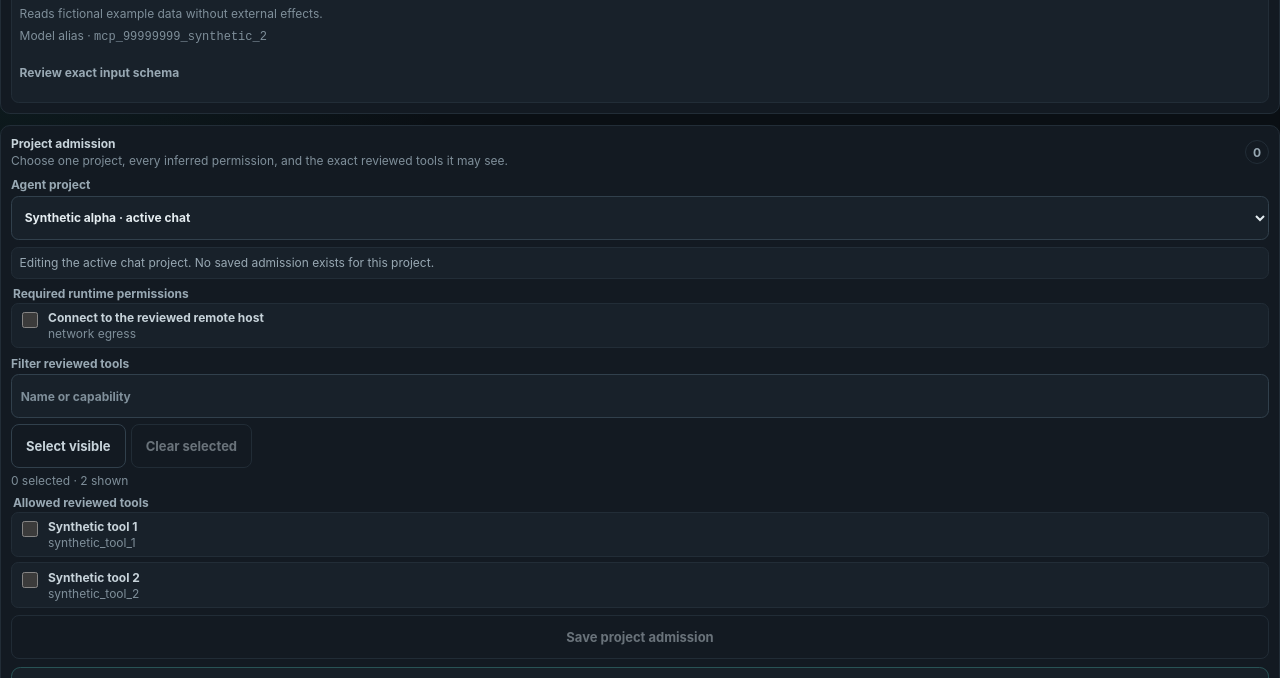
Test case: AgentMcpManagedPlanView project authority › filters large tool sets and supports explicit visible selection and clearing
(page scrolled)
Type "tool 2" into the search field labelled "Filter reviewed tools" at (640, 396), box [11, 374, 1269, 418]
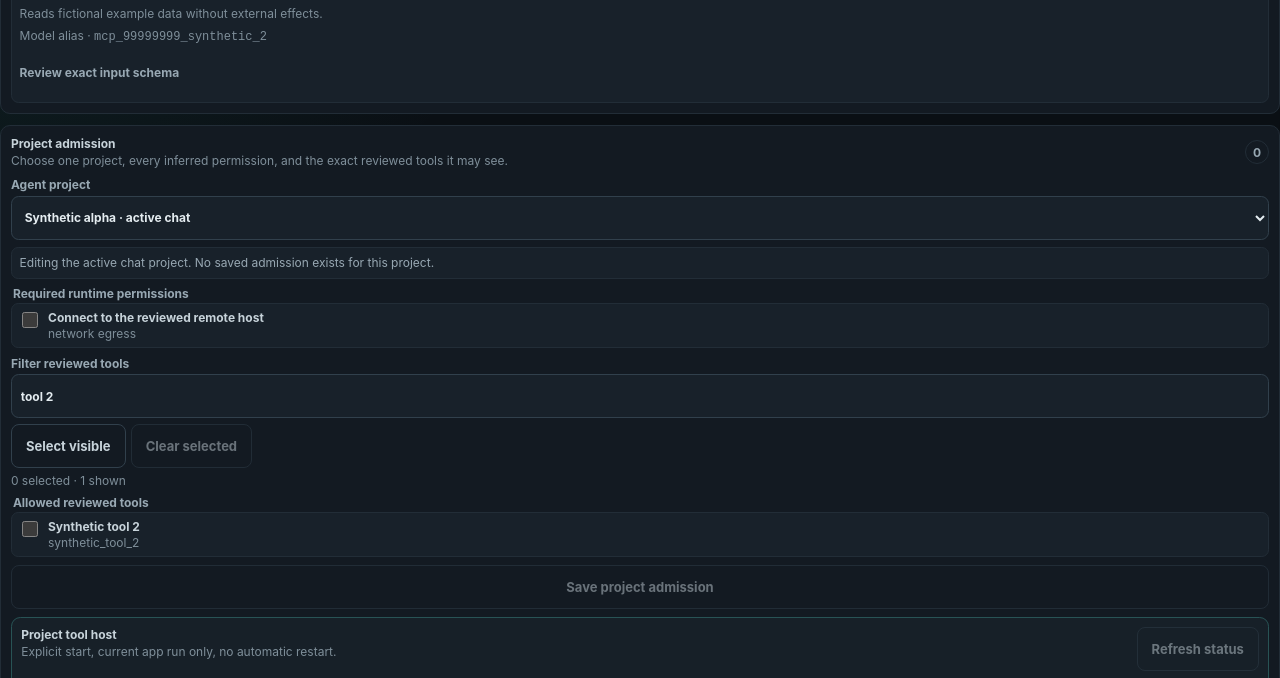
Expected: the text "Synthetic tool 1" is not shown
Expected: the text "0 selected · 1 shown" is shown, [11, 473, 126, 488]
Click the button "Select visible" at (68, 446), box [11, 424, 126, 468]
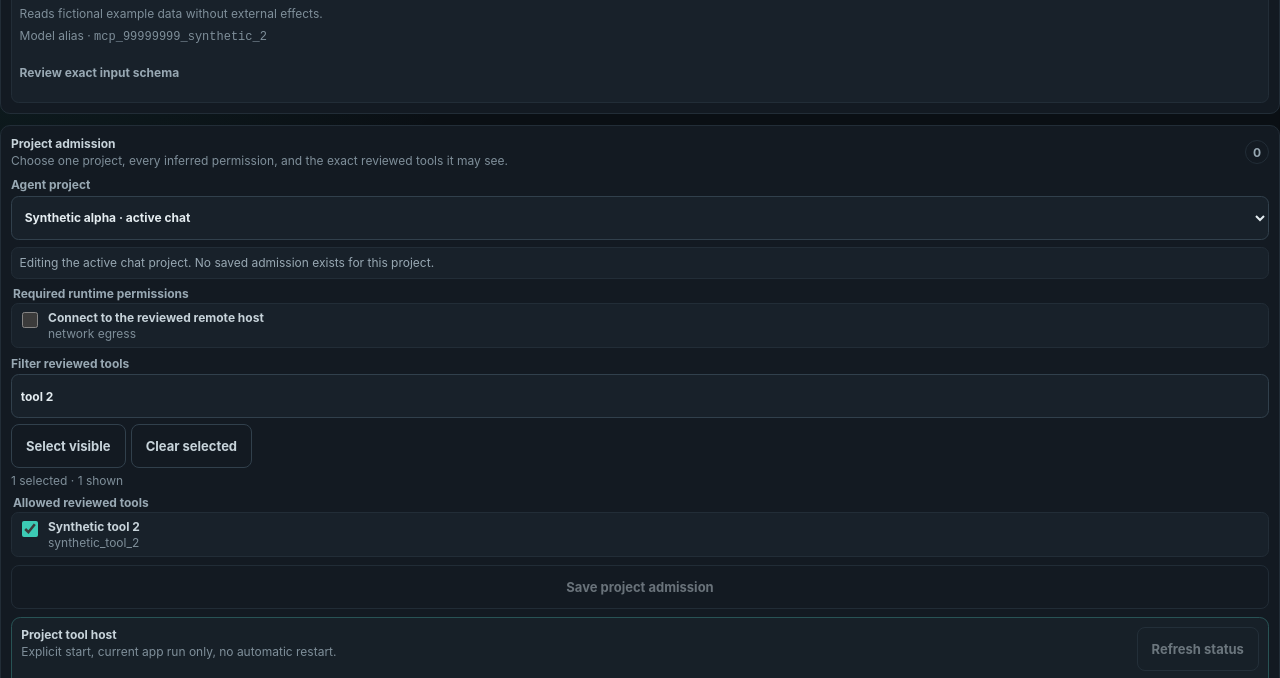
Expected: the text "1 selected · 1 shown" is shown, [11, 473, 123, 488]
Expected: the checkbox labelled "Synthetic tool 2 synthetic_tool_2" is checked, [22, 521, 38, 537]
Click the button "Clear selected" at (191, 446), box [131, 424, 252, 468]
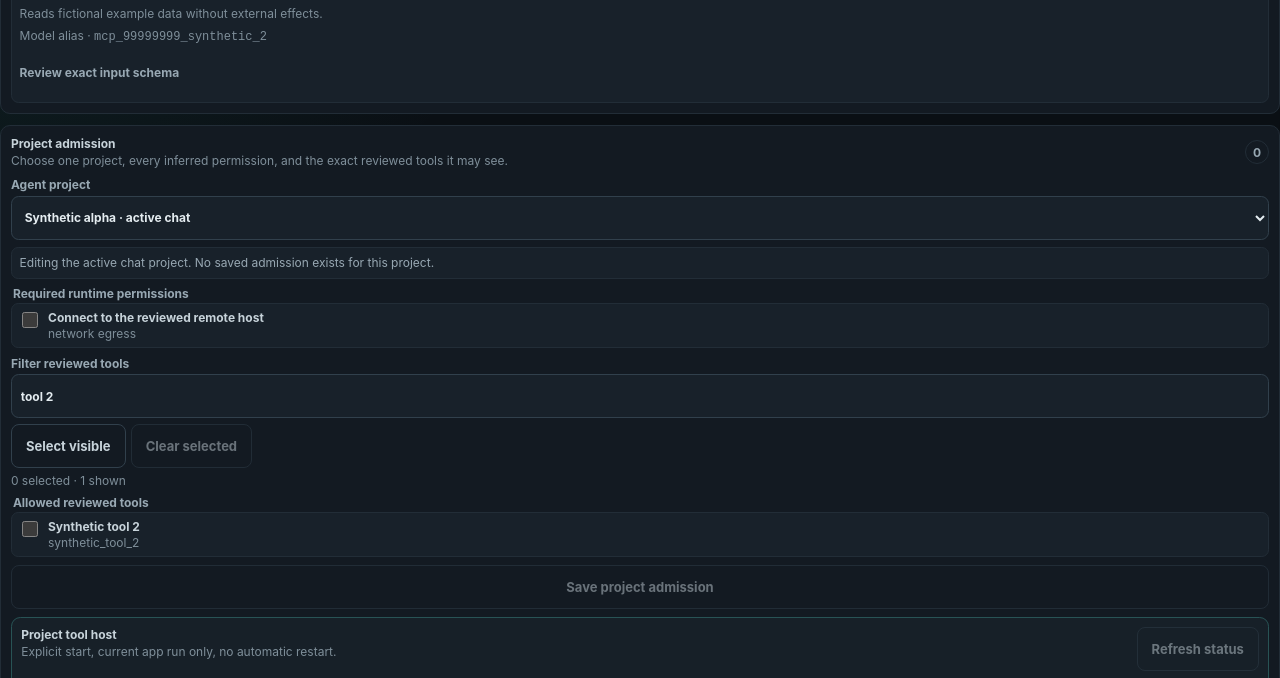
Expected: the text "0 selected · 1 shown" is shown, [11, 473, 126, 488]
Expected: the button "Clear selected" is disabled, [131, 424, 252, 468]
